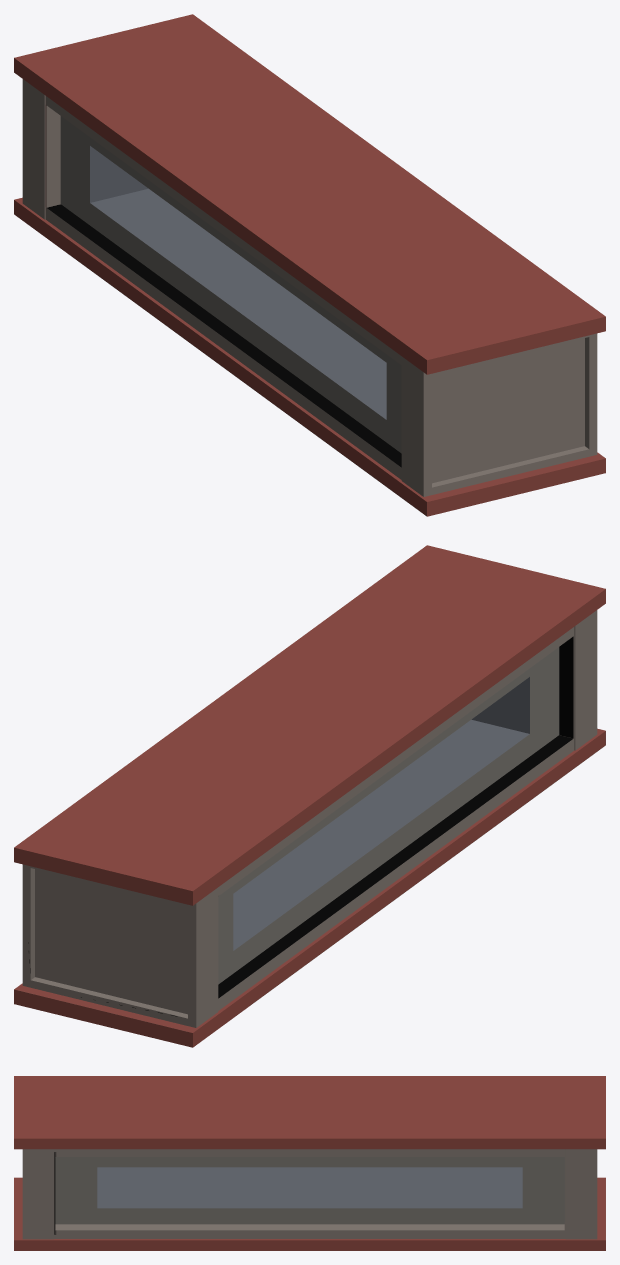
The model's file is girdir 2m #1.fbx.
3 views of the same model, one above another, from view 1: azimuth 30°, elevation 25°; view 2: azimuth 150°, elevation 25°; view 3: azimuth 270°, elevation 25° (orthographic). The views are drawn at different scales.
Parts seen in each view (by area): view 1: Cube.004; view 2: Cube.004; view 3: Cube.004.
Boxes of the visible parts, box(x1,y1,x2,y2) form: Cube.004: box(14, 14, 605, 516); Cube.004: box(14, 545, 605, 1047); Cube.004: box(14, 1076, 605, 1250).
Size of the model in its own units: 0.5 by 0.418 by 2.
1 material, 1 textured.
